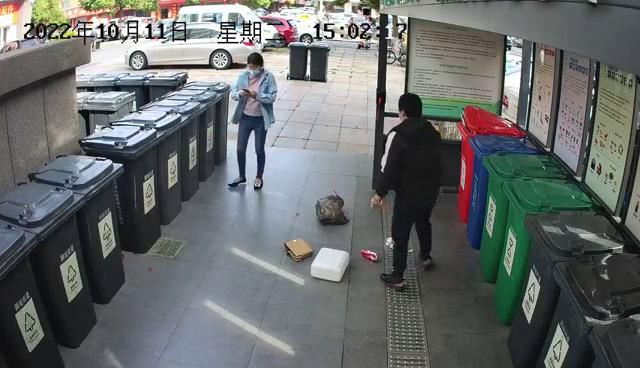lvzhipin: (359, 246, 380, 263)
paomozhipin: (311, 246, 351, 285)
person: (371, 93, 443, 293)
suliaozhipin: (314, 191, 350, 226)
worker: (226, 51, 278, 191)
zhizhipin: (282, 236, 314, 263)
